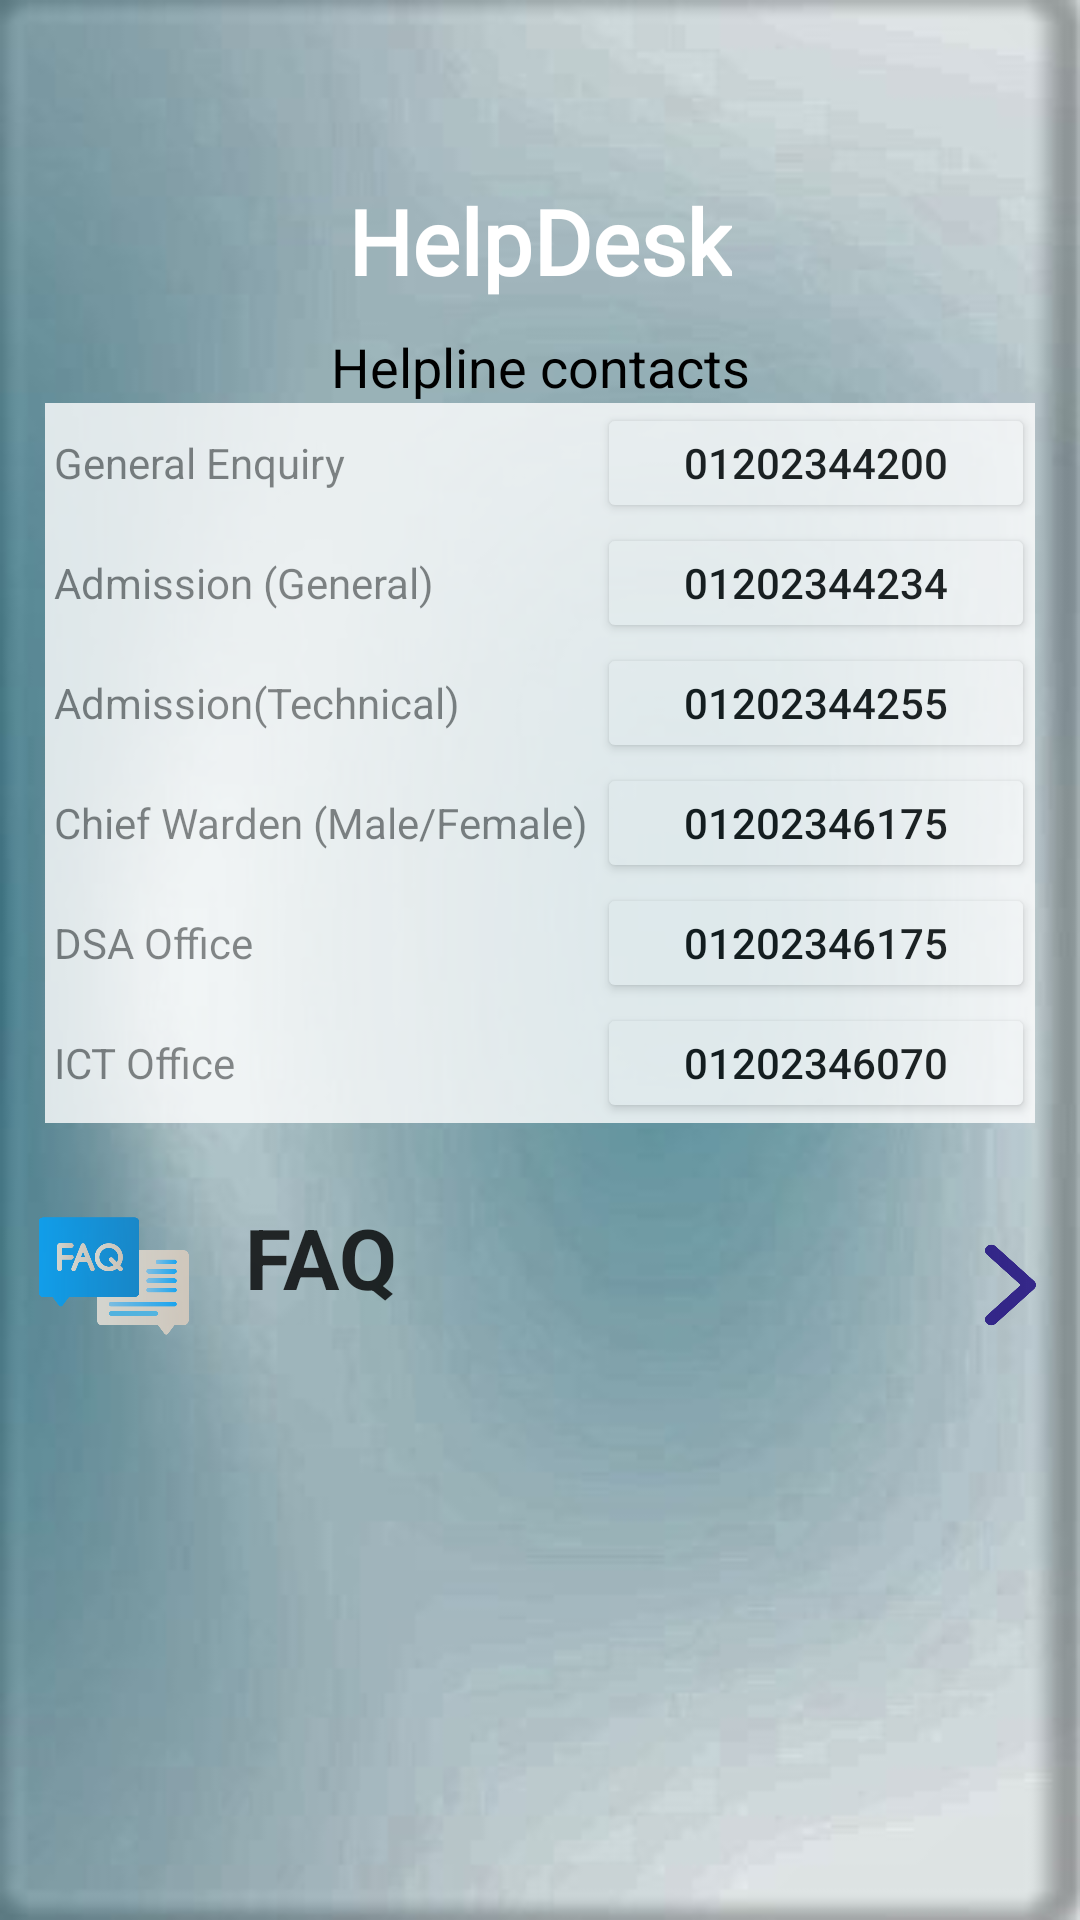

Point at icon controls on the screen. Image size 1080px×1920px, points as (x=x, y=y).
nextbutton: (x=1013, y=1285)
